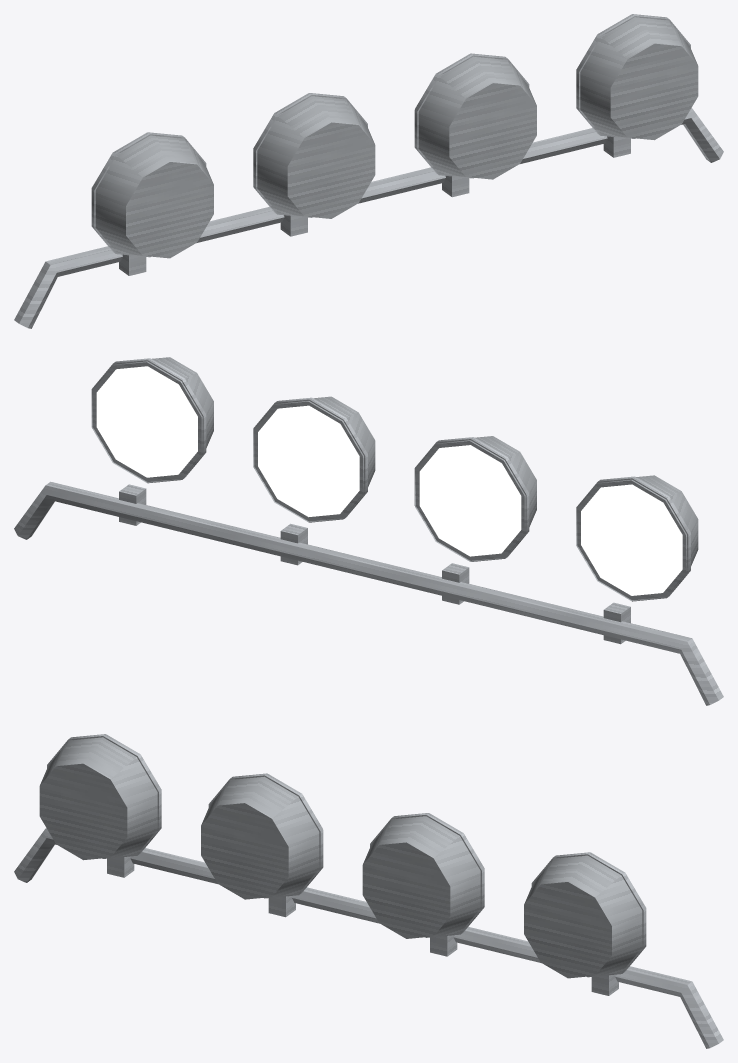
Rendered from farois_aux_n3.glb.
3 views of the same model, one above another, from view 1: azimuth 30°, elevation 25°; view 2: azimuth 150°, elevation 25°; view 3: azimuth 330°, elevation 25° (orthographic).
Parts seen in each view (by area): view 1: farois_aux_n3; view 2: farois_aux_n3; view 3: farois_aux_n3.
Boxes of the visible parts, bbox=[...] form: farois_aux_n3: bbox=[14, 14, 723, 328]; farois_aux_n3: bbox=[14, 357, 723, 705]; farois_aux_n3: bbox=[14, 734, 723, 1048].
Size of the model in its own units: 1.22 by 0.3089 by 0.145.
Materials: 2 (2 with a texture image).
